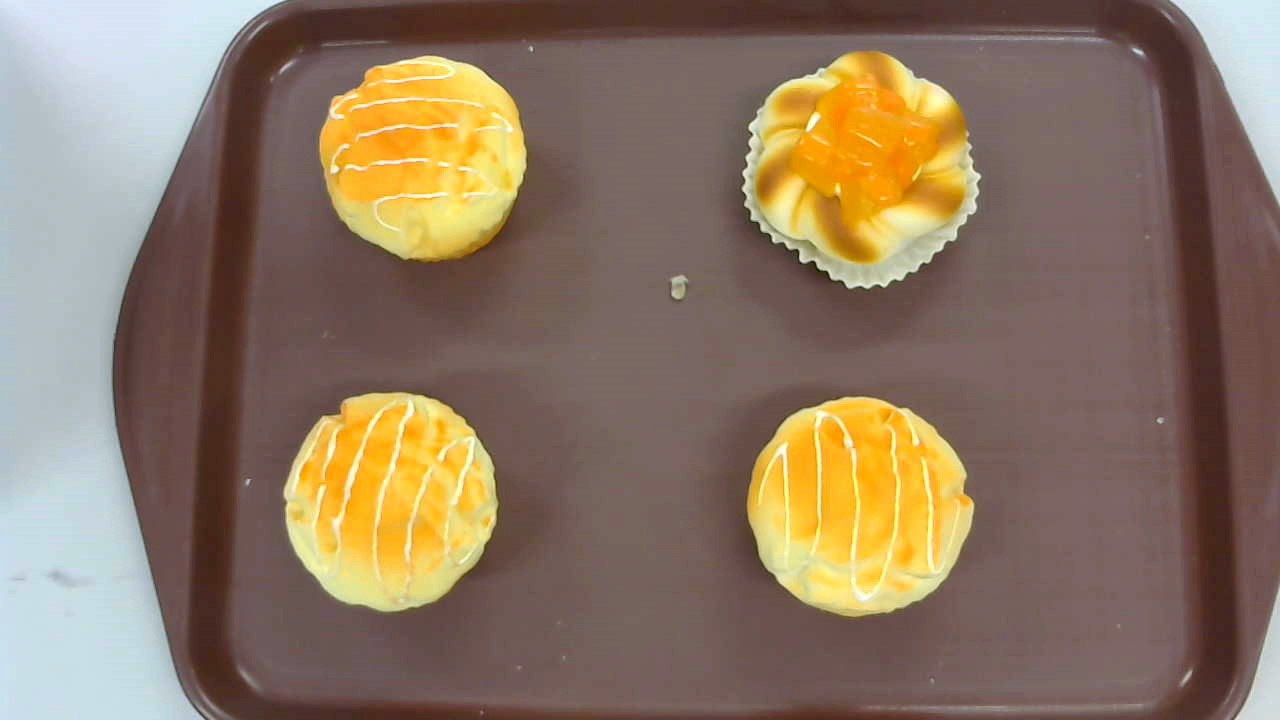cupcake: (746, 397, 975, 619), (283, 391, 497, 616), (319, 53, 527, 266)
mango tart: (741, 50, 982, 293)
